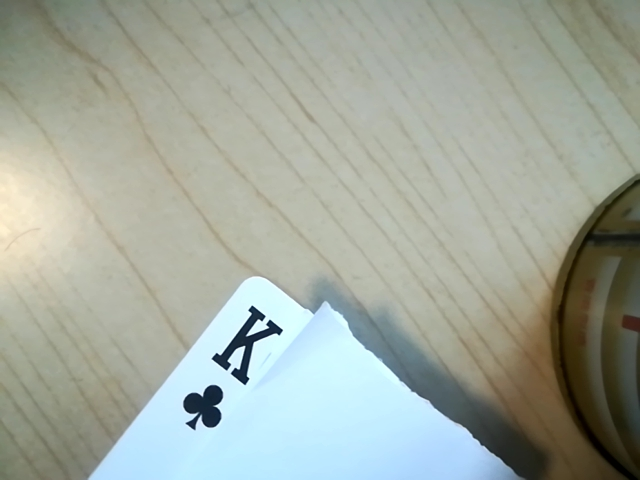mh k: (171, 301, 299, 434)
